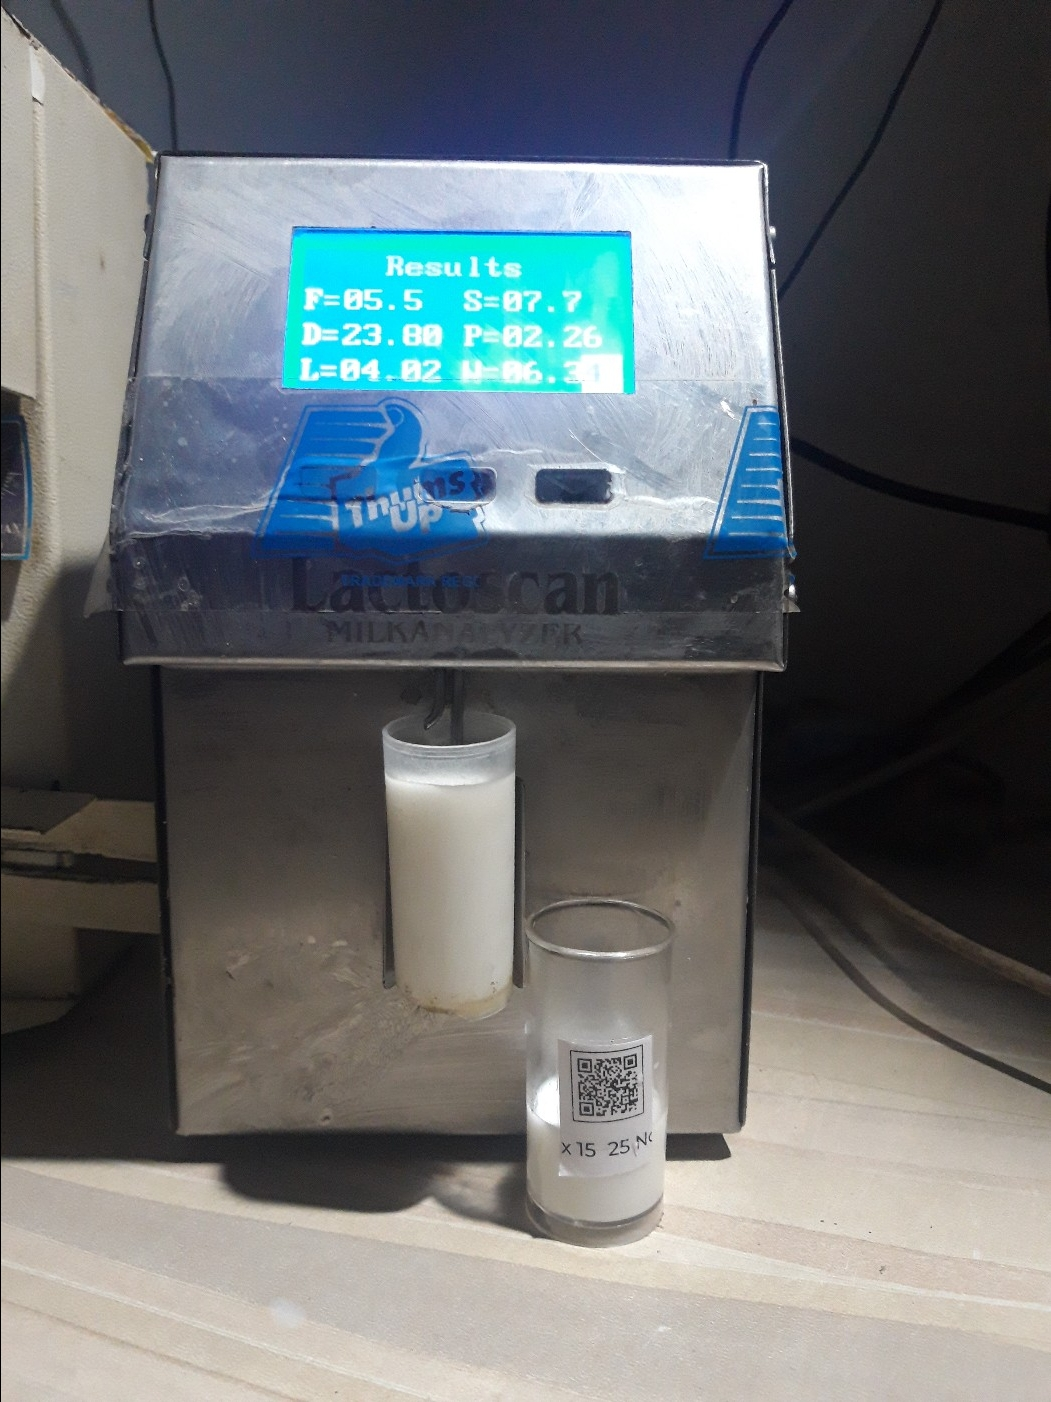lcd: (275, 209, 654, 415)
qr: (554, 1039, 665, 1132)
